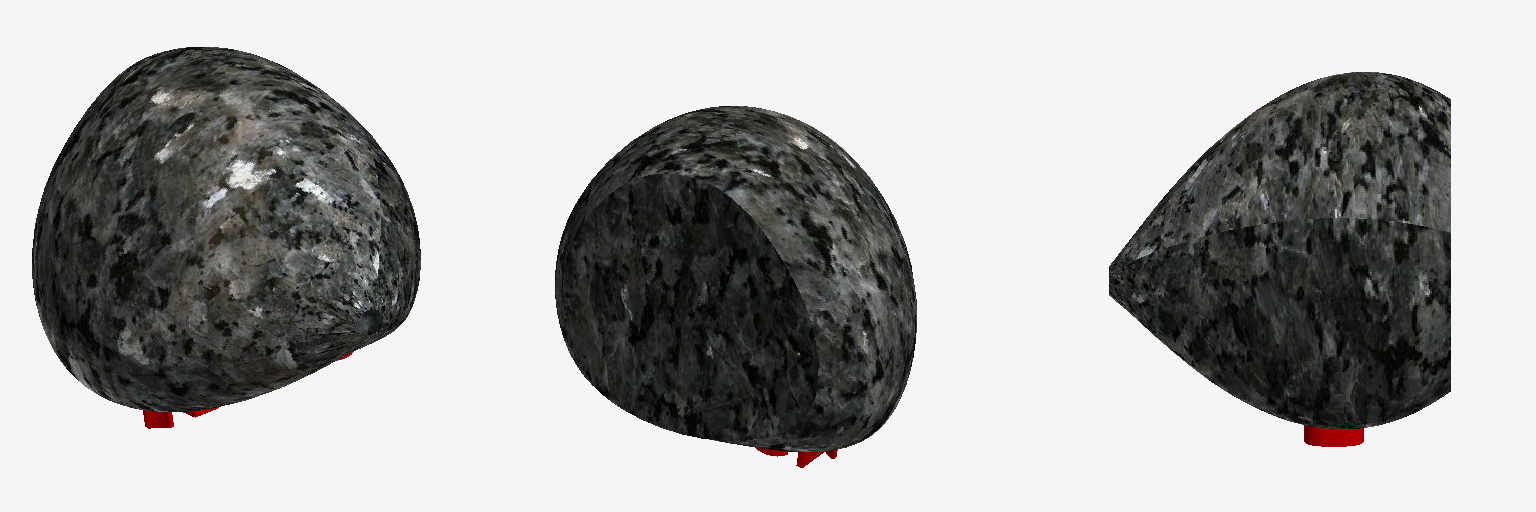
3 views of the same model, side by side, from view 1: azimuth 30°, elevation 25°; view 2: azimuth 150°, elevation 25°; view 3: azimuth 270°, elevation 25° (orthographic).
Parts seen in each view (by area): view 1: object_7; view 2: object_7; view 3: object_7, object_6.
Part boxes in pixels (bbox=[...]): object_7: bbox=[32, 47, 420, 412]; object_7: bbox=[555, 106, 916, 451]; object_7: bbox=[1109, 72, 1450, 428]; object_6: bbox=[1304, 425, 1363, 446].
Size of the model in its own units: 3.46 by 3.25 by 3.04.
Materials: 2 (1 with a texture image).